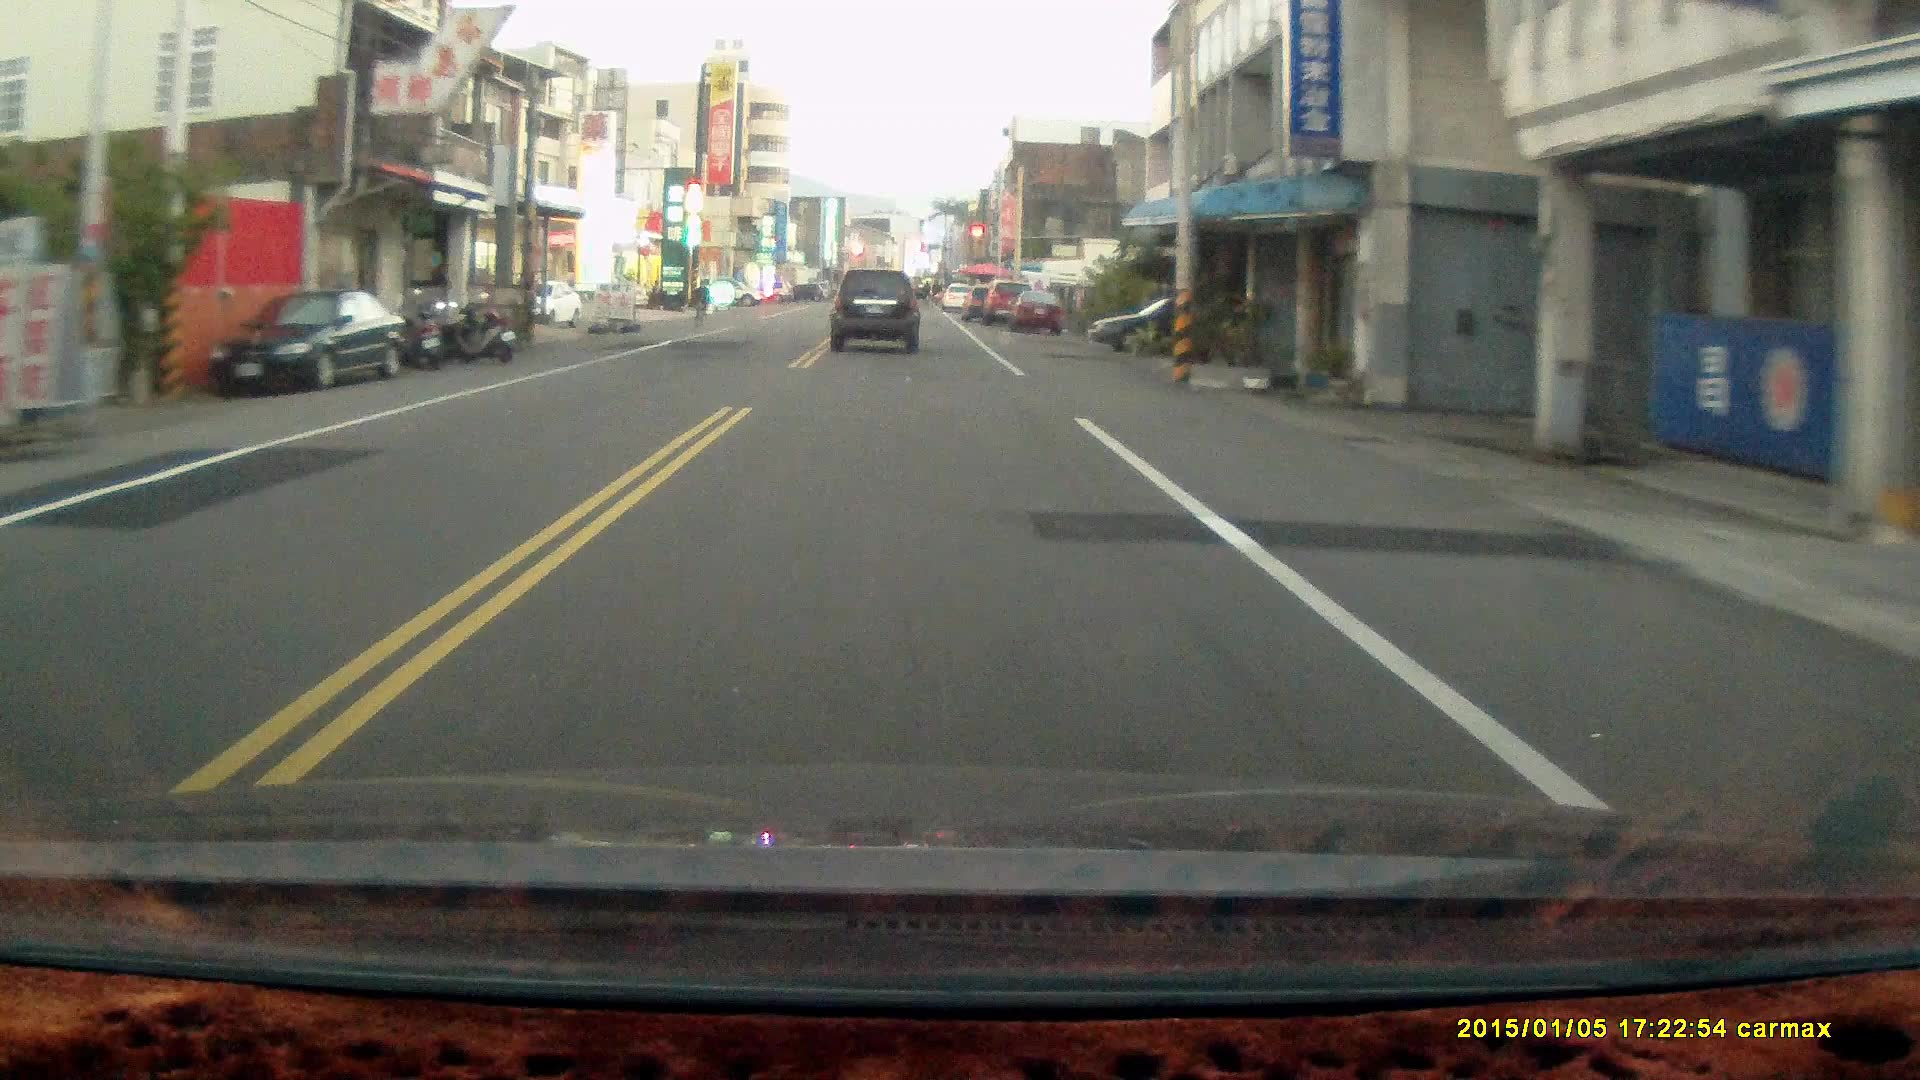rider: (687, 277, 711, 328)
vehicle: (207, 293, 407, 398), (830, 270, 923, 358)
